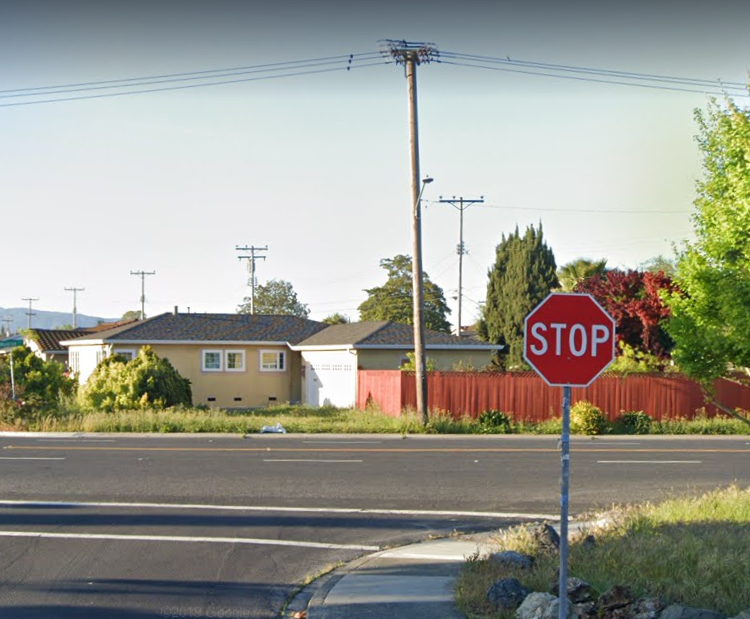stop_sign: (524, 294, 615, 384)
